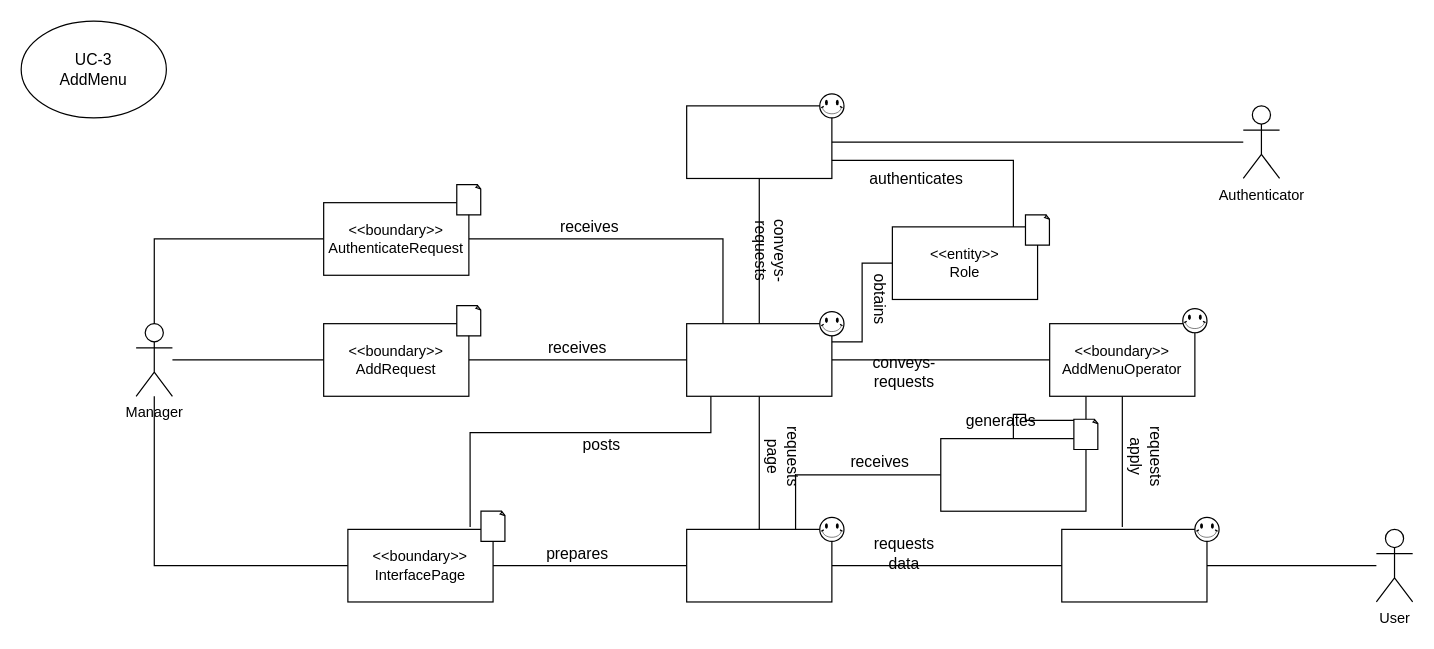
The diagram is 1434 pixels wide and 649 high, and some of its shapes have lost their labels. Here are the shapes that lost their labels. From the top down, the box of each, then its label:
(685, 105, 832, 178): <<boundary>> RoleChecker
(685, 322, 832, 396): <<control>> Controller
(940, 437, 1086, 511): <<entity>> RedirectRequest
(685, 528, 832, 602): <<entity>> PageMaker
(1061, 528, 1207, 602): <<boundary>> MenuConnection
